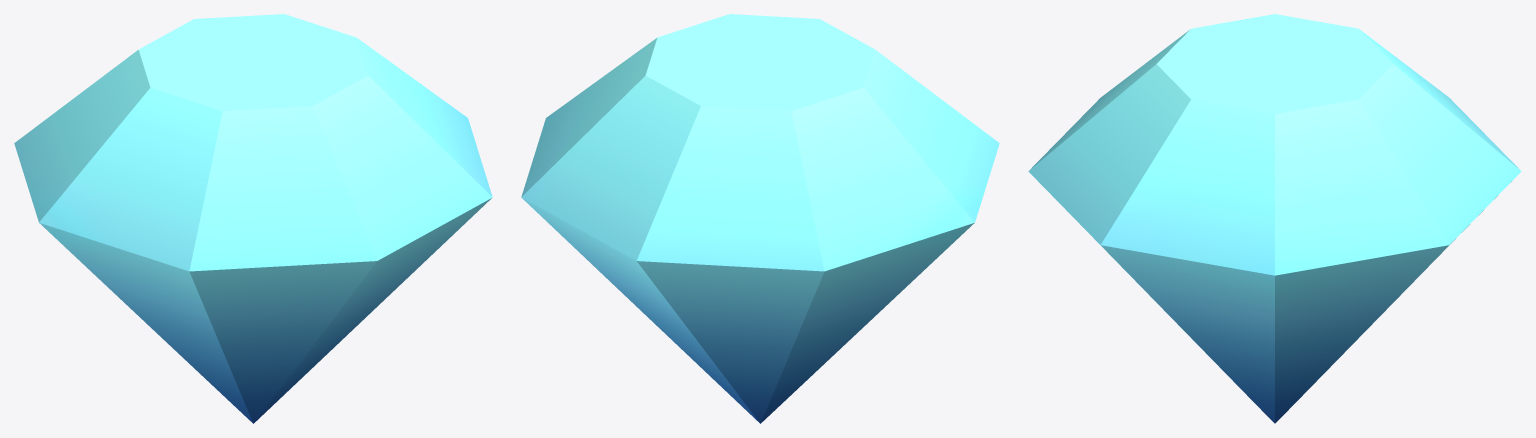
The model's file is Gem.005.glb.
3 renders of one model, left to right at view 1: azimuth 30°, elevation 25°; view 2: azimuth 150°, elevation 25°; view 3: azimuth 270°, elevation 25°, orthographic.
Visible parts, largest first — view 1: Gem.005; view 2: Gem.005; view 3: Gem.005.
Part boxes in pixels (x1,y1,x2,y2): Gem.005: (14, 14, 492, 423); Gem.005: (521, 14, 999, 423); Gem.005: (1028, 14, 1521, 423).
Size of what is drawn, in the model's own units: 0.2371 by 0.1908 by 0.2371.
Materials: 1 (1 with a texture image).
